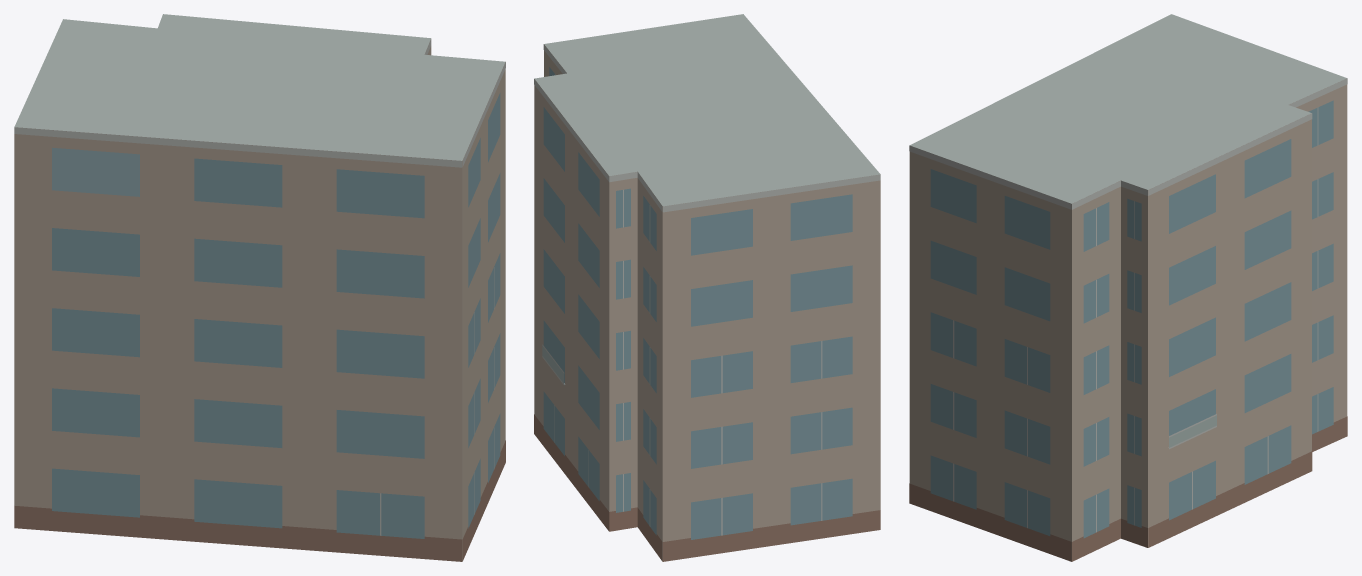
File: survey-upis-32881846.glb
3 views of the same model, side by side, from view 1: azimuth 30°, elevation 25°; view 2: azimuth 150°, elevation 25°; view 3: azimuth 270°, elevation 25° (orthographic). The views are drawn at different scales.
Visible parts, largest first — view 1: survey-upis-32881846.tmp; view 2: survey-upis-32881846.tmp; view 3: survey-upis-32881846.tmp.
Part boxes in pixels (x1,y1,x2,y2): survey-upis-32881846.tmp: (14,14,505,561); survey-upis-32881846.tmp: (534,14,880,561); survey-upis-32881846.tmp: (909,14,1347,561).
Size of the model in its own units: 16.38 by 14.4 by 15.97.
